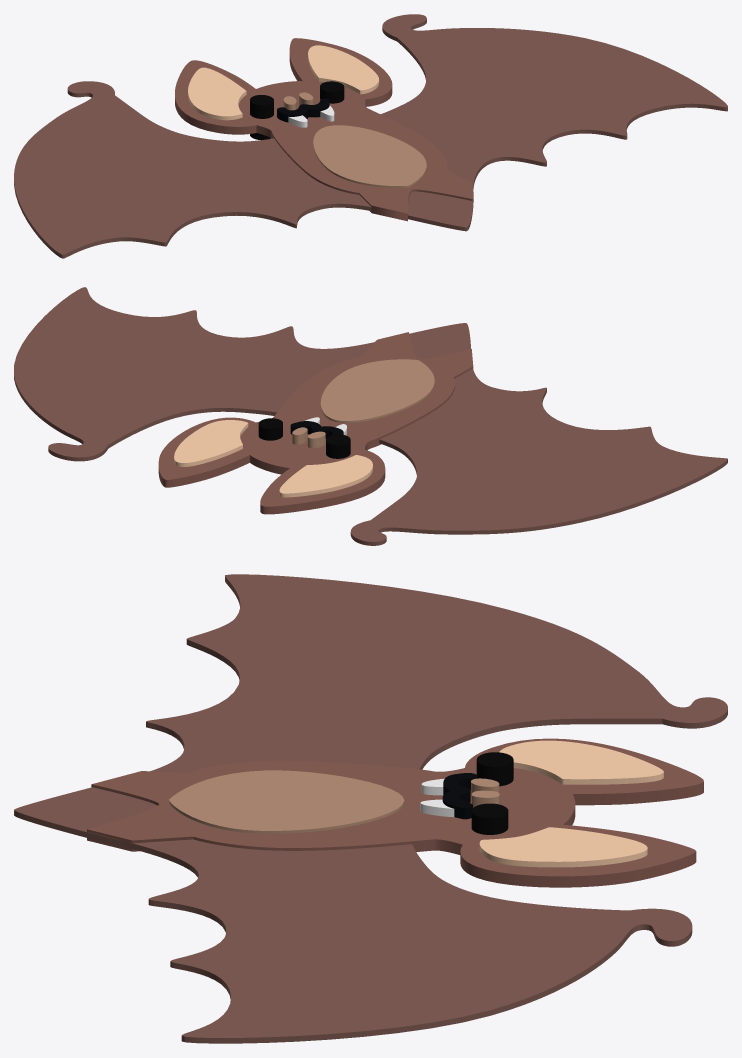
The model's file is emoji_u1f987.glb.
The picture shows the model from 3 angles, top to bottom: view 1: azimuth 30°, elevation 25°; view 2: azimuth 150°, elevation 25°; view 3: azimuth 270°, elevation 25°; orthographic projection. The views are drawn at different scales.
Parts seen in each view (by area): view 1: emoji_u1f987; view 2: emoji_u1f987; view 3: emoji_u1f987.
Boxes of the visible parts, left/top/right/bottom form: emoji_u1f987: left=14, top=14, right=727, bottom=258; emoji_u1f987: left=14, top=287, right=727, bottom=545; emoji_u1f987: left=14, top=574, right=727, bottom=1043.
Size of the model in its own units: 0.0354 by 0.0018 by 0.023.
